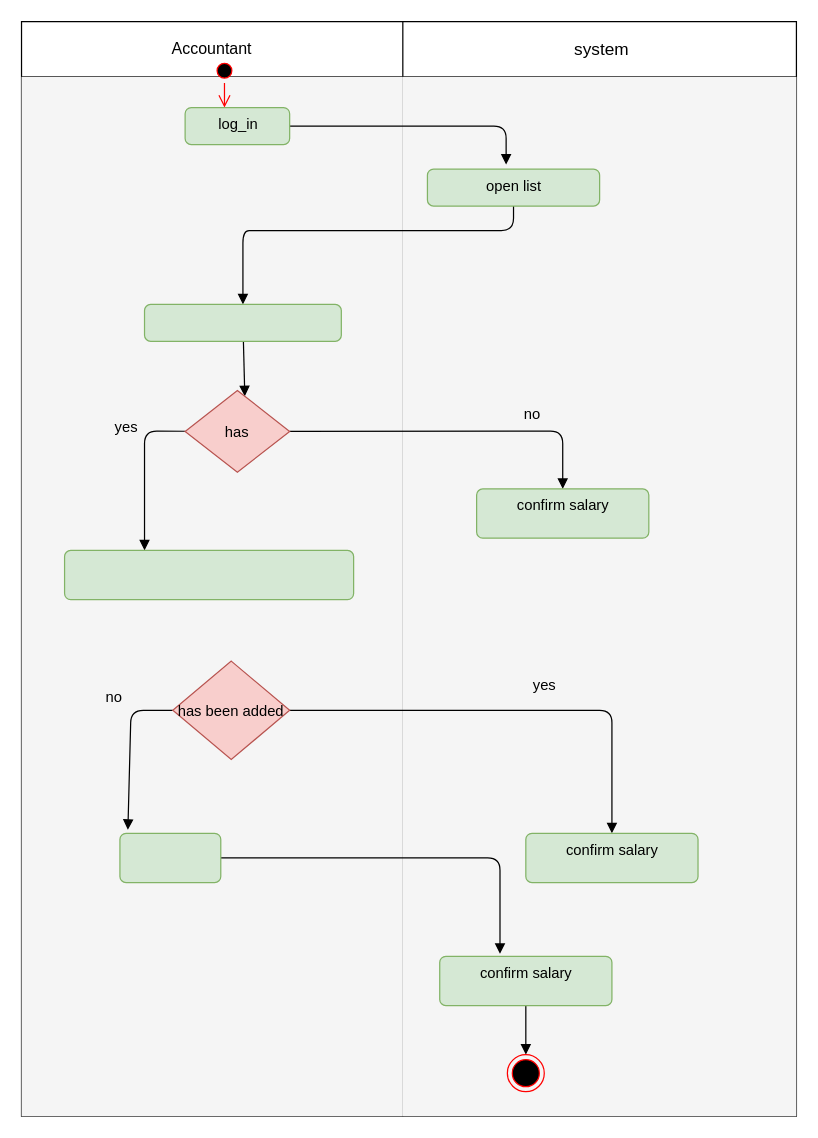
Some shapes in this 818 by 1138 pixel diagram are drawn without their labels. Here are the shapes that lost their labels. From the top down, the centre of each, then its label:
At [242,322]: "Choose discounts and bonuses".
At [208,574]: "Go back to the list and choose salaries".
At [170,857]: "edit".
